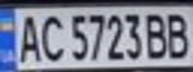2: (103, 10, 127, 61)
3: (124, 10, 145, 61)
5: (66, 10, 90, 61)
7: (84, 10, 106, 61)
A: (12, 10, 42, 64)
B: (142, 10, 172, 61), (163, 9, 193, 60)
C: (36, 11, 66, 63)
